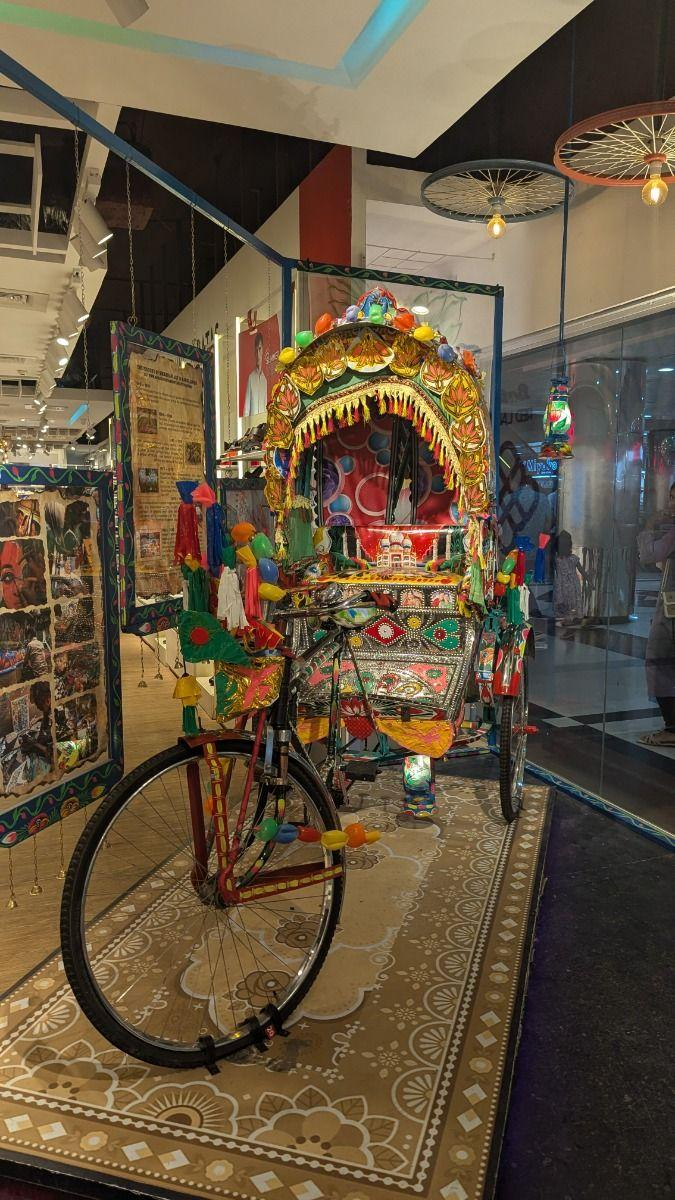Rickshaw: (22, 268, 572, 1100)
